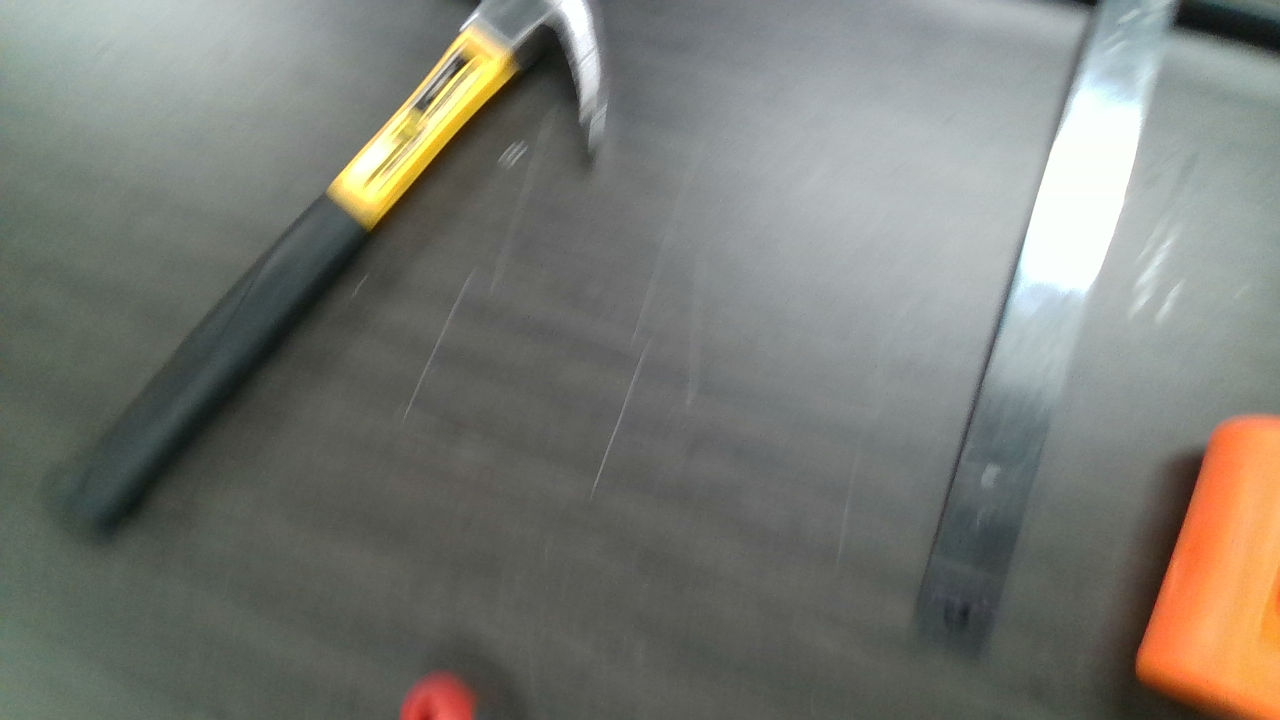Orange Hammer: (1131, 413, 1280, 720)
